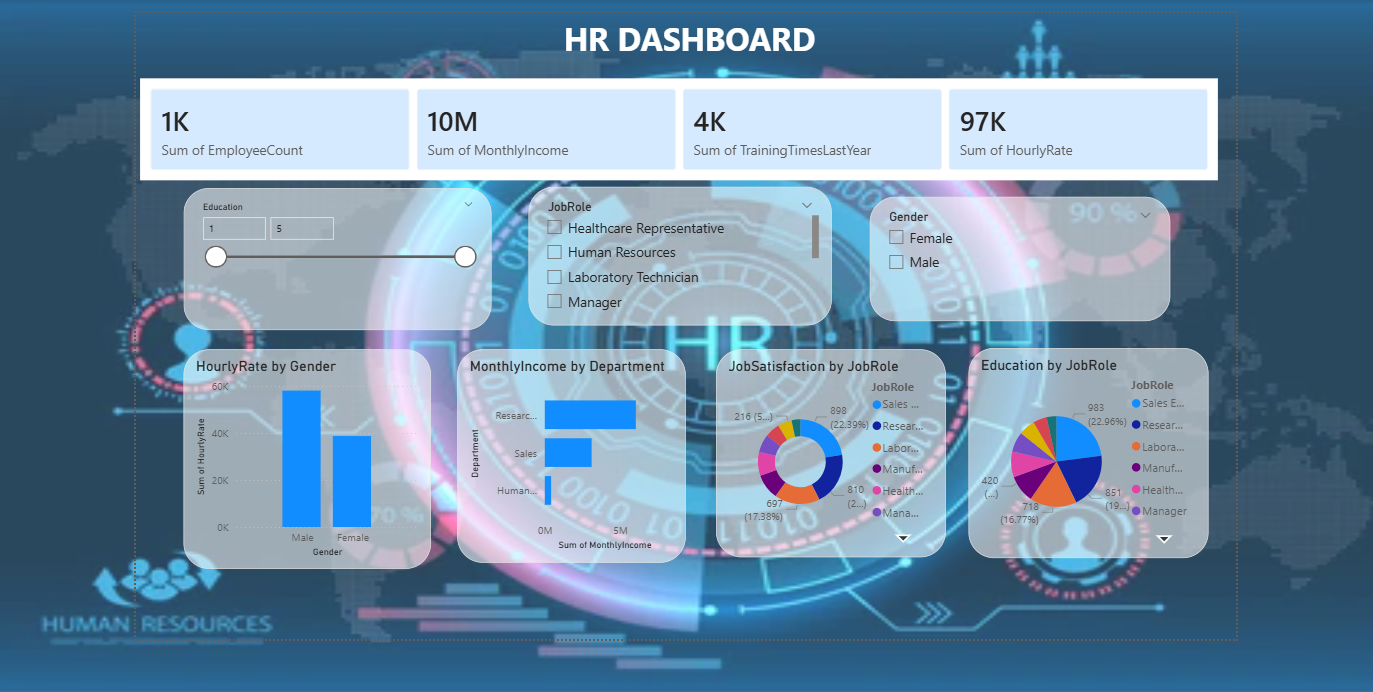

Layout of this report page (visuals, bound fields, positions):
{"tool":"powerbi","page":{"name":"Page 1","canvas":[1293,737],"ordinal":0},"visuals":[{"type":"clusteredBarChart","title":" MonthlyIncome by Department","fields":{"Category":["WA_Fn-UseC_-HR-Employee-Attrition.Department"],"Y":["Sum(WA_Fn-UseC_-HR-Employee-Attrition.MonthlyIncome)"]},"box":[377.5,396.2,268.8,251.2],"z":0},{"type":"clusteredColumnChart","title":"HourlyRate by Gender","fields":{"Y":["Sum(WA_Fn-UseC_-HR-Employee-Attrition.HourlyRate)"],"Category":["WA_Fn-UseC_-HR-Employee-Attrition.Gender"]},"box":[56.2,396.2,291.2,258.8],"z":1},{"type":"pieChart","title":" Education by JobRole","fields":{"Y":["Sum(WA_Fn-UseC_-HR-Employee-Attrition.Education)"],"Category":["WA_Fn-UseC_-HR-Employee-Attrition.JobRole"]},"box":[978.8,393.8,282.5,247.5],"z":2},{"type":"donutChart","title":"JobSatisfaction by JobRole","fields":{"Y":["Sum(WA_Fn-UseC_-HR-Employee-Attrition.JobSatisfaction)"],"Category":["WA_Fn-UseC_-HR-Employee-Attrition.JobRole"]},"box":[682.5,396.2,270,245],"z":3},{"type":"slicer","fields":{"Values":["WA_Fn-UseC_-HR-Employee-Attrition.Education"]},"box":[56.2,206.2,362.5,167.5],"z":8},{"type":"slicer","fields":{"Values":["WA_Fn-UseC_-HR-Employee-Attrition.Gender"]},"box":[863.3,216.7,353.3,146.7],"z":9},{"type":"slicer","fields":{"Values":["WA_Fn-UseC_-HR-Employee-Attrition.JobRole"]},"box":[461.7,205,356.7,163.3],"z":10},{"type":"textbox","box":[478.3,0,356.7,71.7],"z":12},{"type":"cardVisual","fields":{"Data":["Sum(WA_Fn-UseC_-HR-Employee-Attrition.EmployeeCount)","Sum(WA_Fn-UseC_-HR-Employee-Attrition.MonthlyIncome)","Sum(WA_Fn-UseC_-HR-Employee-Attrition.TrainingTimesLastYear)","Sum(WA_Fn-UseC_-HR-Employee-Attrition.HourlyRate)"]},"box":[0,71.7,1280,130],"z":13}]}

Visuals, with their boxes on the page's 1293x737 design canvas (x1, y1, x2, y2). These are canvas units, not pixel positions in the 1373x692 screenshot, which may show the page scaled, cropped or inside an application window:
" MonthlyIncome by Department" clusteredBarChart: l=378, t=396, r=646, b=647
"HourlyRate by Gender" clusteredColumnChart: l=56, t=396, r=347, b=655
" Education by JobRole" pieChart: l=979, t=394, r=1261, b=641
"JobSatisfaction by JobRole" donutChart: l=682, t=396, r=952, b=641
slicer - WA_Fn-UseC_-HR-Employee-Attrition.Education: l=56, t=206, r=419, b=374
slicer - WA_Fn-UseC_-HR-Employee-Attrition.Gender: l=863, t=217, r=1217, b=363
slicer - WA_Fn-UseC_-HR-Employee-Attrition.JobRole: l=462, t=205, r=818, b=368
textbox: l=478, t=0, r=835, b=72
cardVisual - Sum(WA_Fn-UseC_-HR-Employee-Attrition.EmployeeCount) x Sum(WA_Fn-UseC_-HR-Employee-Attrition.MonthlyIncome): l=0, t=72, r=1280, b=202
